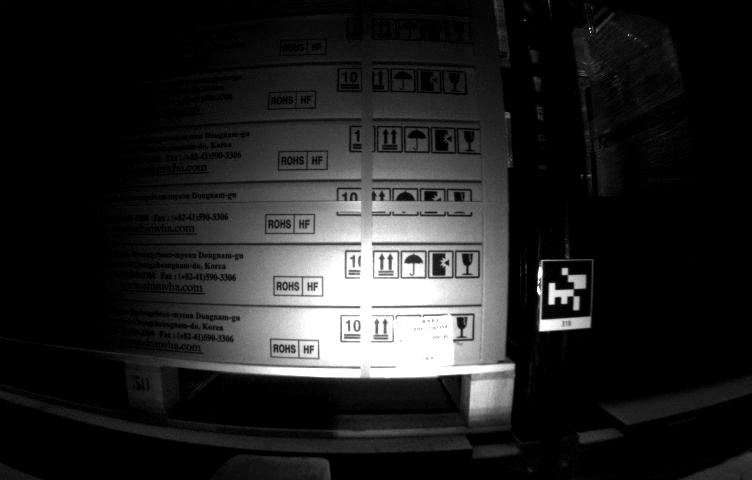True Barcode: (394, 312, 454, 370)
